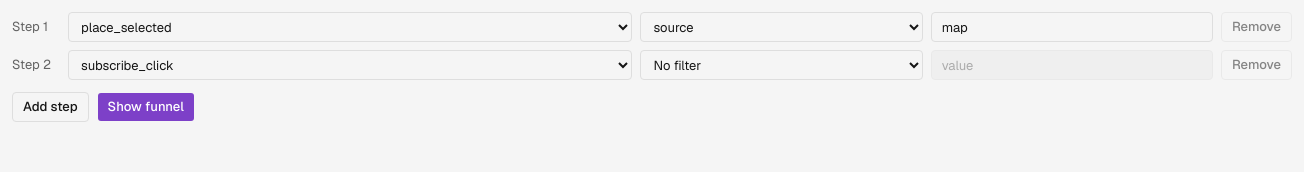
Test case: FunnelEditor › starts from the given steps and changing the event clears the filter
Expected: the field named "Step 1 value" holds "map", [931,12,1213,42]
Select "subscribe_click" in the dropdown named "Step 1 event" at (350, 27), box [68,12,632,42]
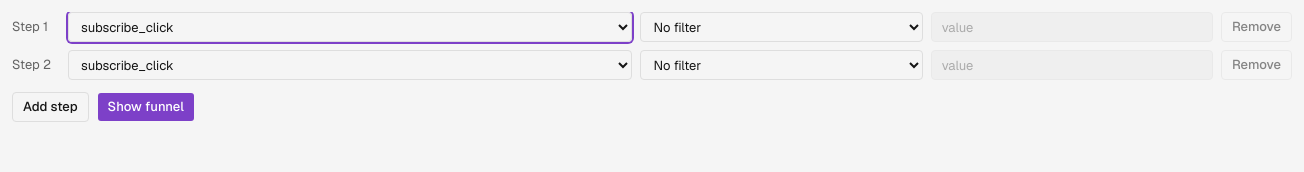
Expected: the dropdown named "Step 1 filter" shows "No filter", [640,12,923,42]
